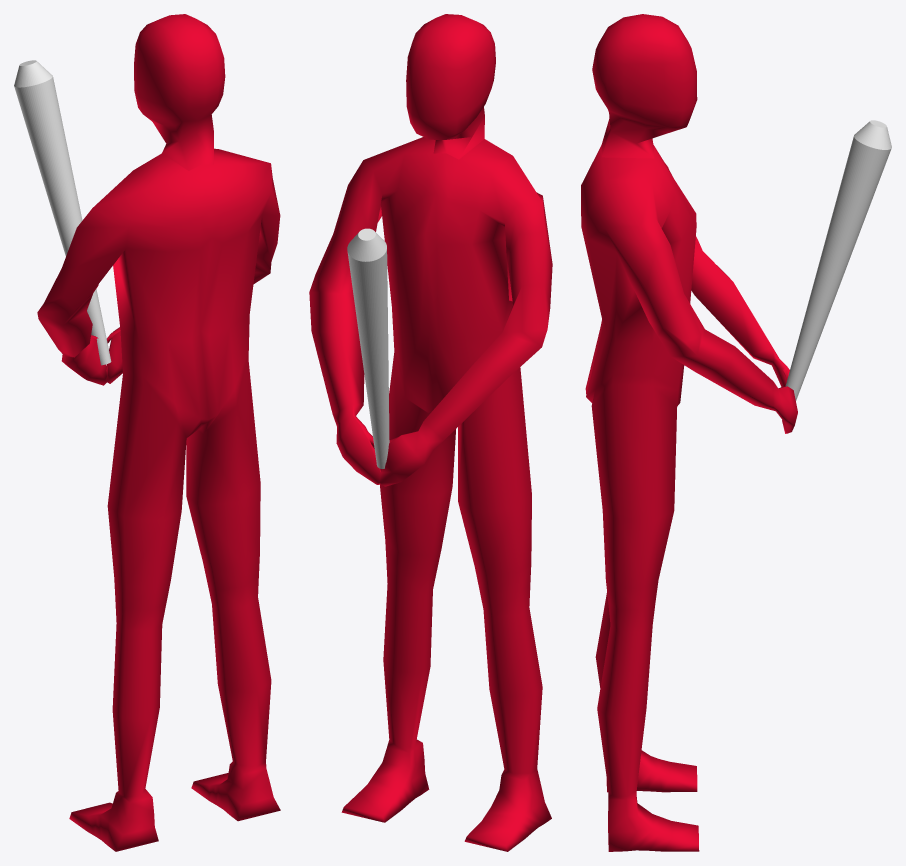
The model's file is jimmy-model.glb.
The picture shows the model from 3 angles, left to right: view 1: azimuth 30°, elevation 25°; view 2: azimuth 150°, elevation 25°; view 3: azimuth 270°, elevation 25°; orthographic projection.
Parts seen in each view (by area): view 1: Cube, Цилиндр; view 2: Cube, Цилиндр; view 3: Cube, Цилиндр.
Part boxes in pixels (<box>): Cube: <box>37,14,280,851</box>; Цилиндр: <box>14,60,111,365</box>; Cube: <box>309,14,552,851</box>; Цилиндр: <box>347,228,389,468</box>; Cube: <box>581,14,797,851</box>; Цилиндр: <box>785,120,891,400</box>.
Size of the model in its own units: 1.45 by 4.75 by 1.69.
